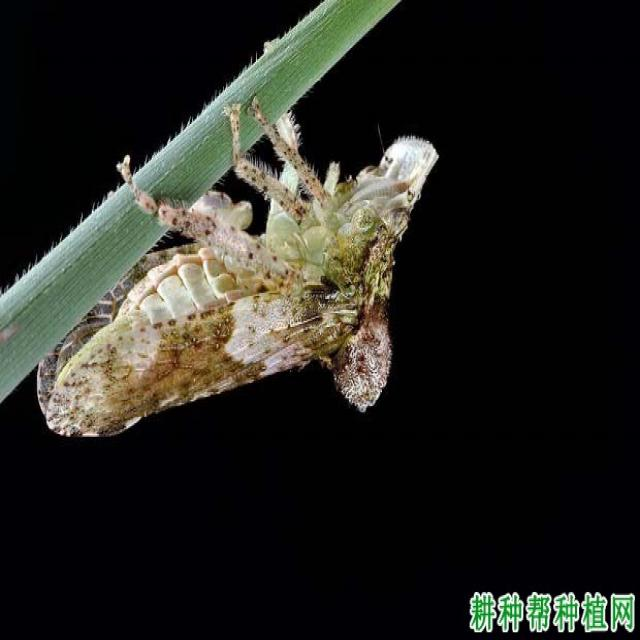Yechan: (31, 134, 444, 437)
